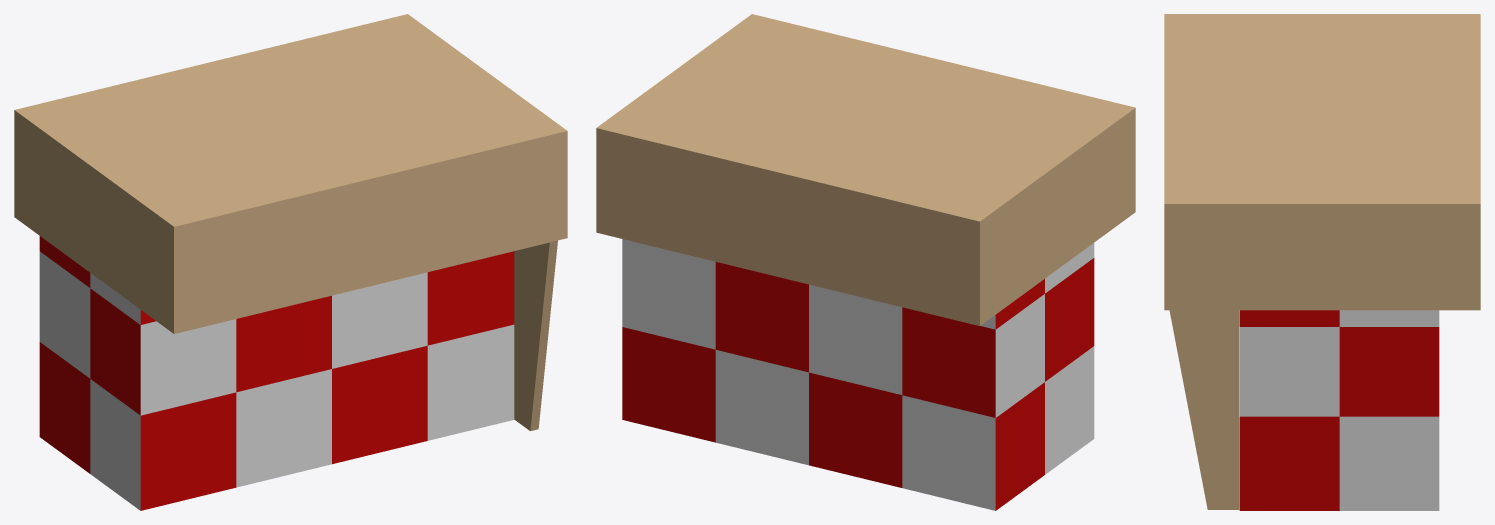
The model's file is Kantine Counter 1.fbx.
3 renders of one model, left to right at view 1: azimuth 30°, elevation 25°; view 2: azimuth 150°, elevation 25°; view 3: azimuth 270°, elevation 25°, orthographic. The views are drawn at different scales.
Parts seen in each view (by area): view 1: pCube10; view 2: pCube10; view 3: pCube10.
Boxes of the visible parts, x1=… form: pCube10: x1=14, y1=14, x2=567, y2=510; pCube10: x1=596, y1=14, x2=1135, y2=510; pCube10: x1=1164, y1=14, x2=1480, y2=510.
Bounding box in the file's own units: 7.08 × 5.38 × 4.98.
